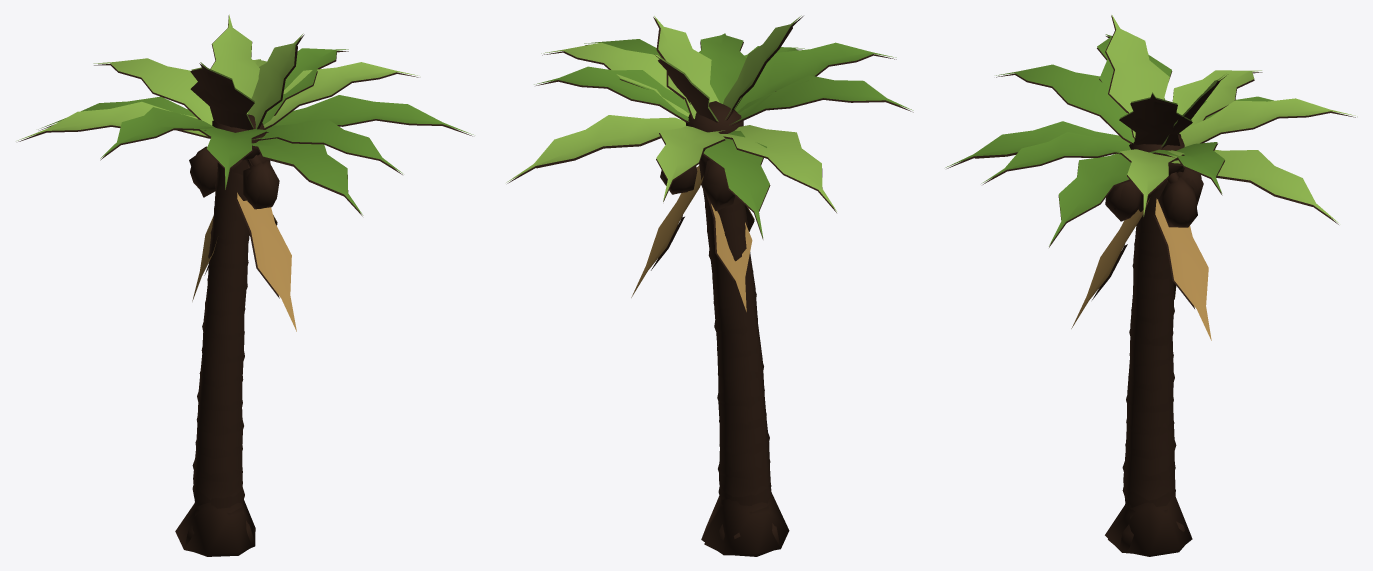
File: palm_c.glb
3 views of the same model, side by side, from view 1: azimuth 30°, elevation 25°; view 2: azimuth 150°, elevation 25°; view 3: azimuth 270°, elevation 25° (orthographic). The views are drawn at different scales.
Visible parts, largest first — view 1: palm_c, palm_c_LOD1_outline, palm_c_outline; view 2: palm_c, palm_c_LOD1_outline, palm_c_outline; view 3: palm_c, palm_c_LOD1_outline, palm_c_outline.
Part boxes in pixels (bbox=[...]): palm_c: bbox=[17, 14, 473, 331]; palm_c_LOD1_outline: bbox=[175, 46, 343, 554]; palm_c_outline: bbox=[18, 15, 472, 556]; palm_c: bbox=[506, 15, 913, 311]; palm_c_LOD1_outline: bbox=[536, 27, 792, 555]; palm_c_outline: bbox=[507, 16, 913, 556]; palm_c: bbox=[945, 15, 1357, 340]; palm_c_LOD1_outline: bbox=[974, 52, 1312, 554]; palm_c_outline: bbox=[947, 15, 1355, 556].
Size of what is drawn, in the model's own units: 4.79 by 6.5 by 4.81.
